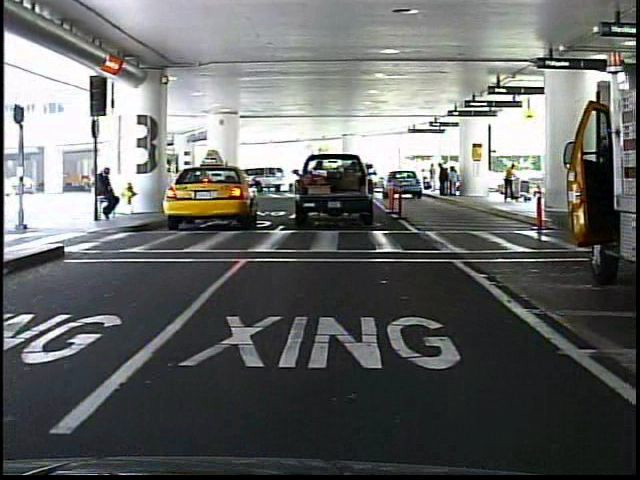person: (96, 162, 124, 226), (500, 159, 520, 207)
